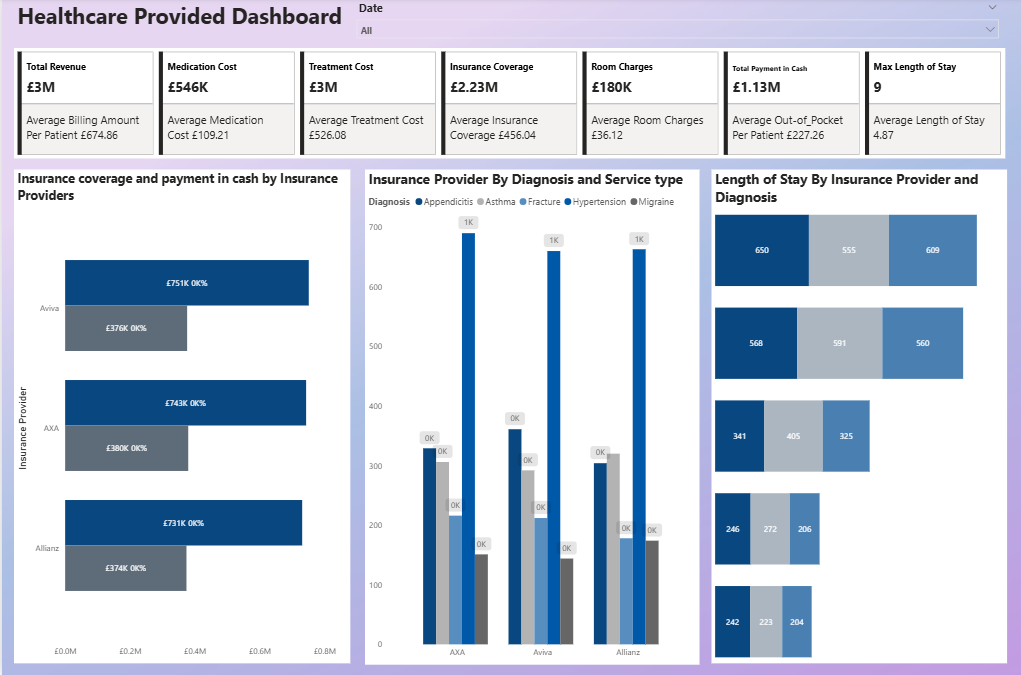

This screenshot's page, from the dashboard's own definition file:
{"tool":"powerbi","page":{"name":"Insurance Provider Overview","canvas":[1500,1000],"ordinal":1},"visuals":[{"type":"clusteredBarChart","title":"Insurance coverage and payment in cash by Insurance Providers","fields":{"Y":["All Measures.Total Insurance Coverage","All Measures.Total Payment in cash"],"Category":["insurance.Insurance Provider"]},"box":[17.5,255,495,727.5],"z":0},{"type":"clusteredColumnChart","title":"Insurance Provider By Diagnosis and Service type","fields":{"Category":["insurance.Insurance Provider"],"Series":["diagnoses.Diagnosis"],"Y":["CountNonNull(visits.Service Type)"]},"box":[534.6,254.1,492.6,729],"z":1000},{"type":"barChart","title":"Length of Stay By Insurance Provider and Diagnosis","fields":{"Y":["Sum(visits.Length of Stay)"],"Series":["insurance.Insurance Provider"],"Category":["diagnoses.Diagnosis"]},"box":[1045,255,435,727.5],"z":2000},{"type":"textbox","box":[17.2,0,517.3,59.4],"z":3000},{"type":"slicer","fields":{"Values":["Date Table.Year","Date Table.Qtr","Date Table.Month","Date Table.WeekType"]},"box":[512.5,0,965.4,75.1],"z":4000},{"type":"cardVisual","fields":{"Data":["All Measures.Total Billing Amount","All Measures.Total Medication cost","All Measures.Total Treatment Cost","All Measures.Total Insurance Coverage","All Measures.Total Room Charges","All Measures.Total Payment in cash","All Measures.Total Length of Stay"]},"box":[17.5,75,1460,162.5],"z":5000}]}

Visuals, with their boxes in screenshot pixels (x1, y1, x2, y2), scaled from the page's 1500x1000 canvas onto the 1021x675 screenshot:
"Insurance coverage and payment in cash by Insurance Providers" clusteredBarChart: 12/172/349/663
"Insurance Provider By Diagnosis and Service type" clusteredColumnChart: 364/172/699/664
"Length of Stay By Insurance Provider and Diagnosis" barChart: 711/172/1007/663
textbox: 12/0/364/40
slicer - Date Table.Year x Date Table.Qtr: 349/0/1006/51
cardVisual - All Measures.Total Billing Amount x All Measures.Total Medication cost: 12/51/1006/160
